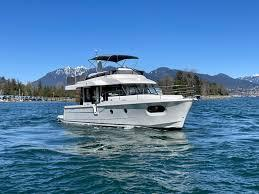Ship: (59, 56, 194, 129)
